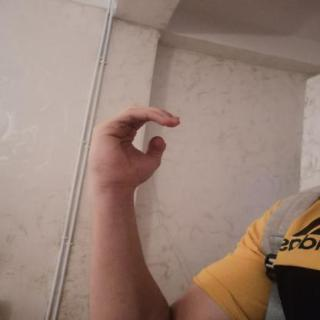JEEM: (77, 100, 190, 197)
